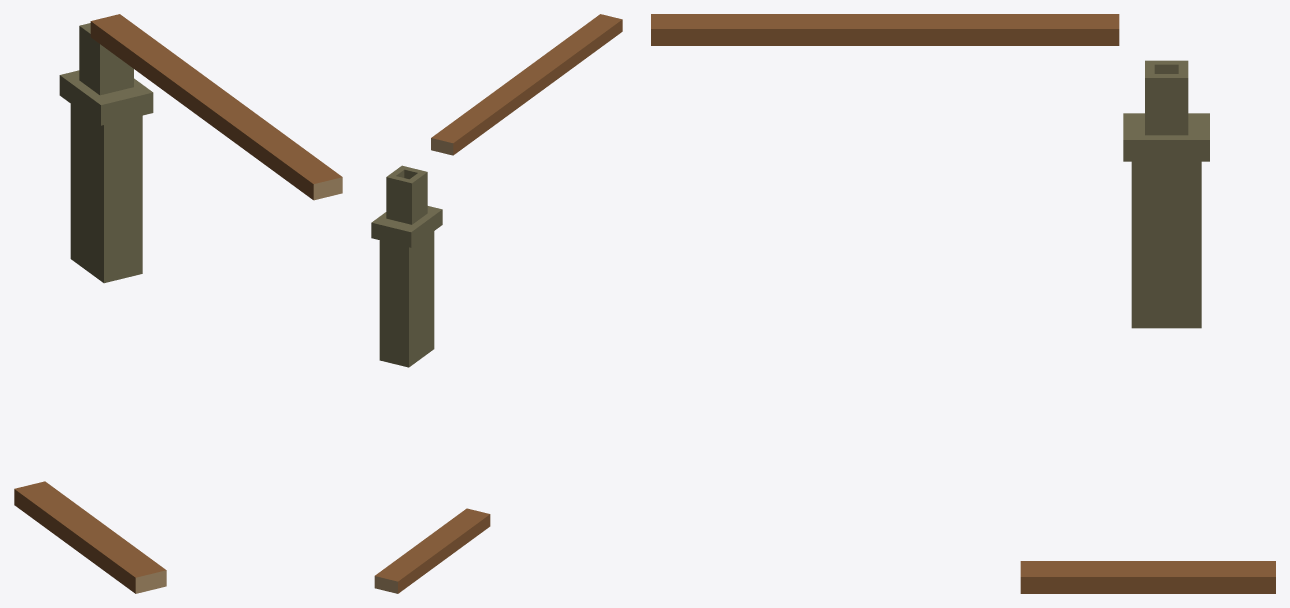
3 views of the same model, side by side, from view 1: azimuth 30°, elevation 25°; view 2: azimuth 150°, elevation 25°; view 3: azimuth 270°, elevation 25° (orthographic). The views are drawn at different scales.
Visible parts, largest first — view 1: Box15371_rock2_0, Box15735_brown_0, Box15357_brown_0, Box15357_brown2_0, Box15735_brown2_0; view 2: Box15371_rock2_0, Box15735_brown_0, Box15357_brown_0; view 3: Box15371_rock2_0, Box15735_brown_0, Box15357_brown_0.
Part boxes in pixels (x1,y1,x2,y2): Box15371_rock2_0: (59, 23, 153, 283); Box15735_brown_0: (90, 14, 342, 199); Box15357_brown_0: (14, 481, 166, 593); Box15357_brown2_0: (135, 570, 166, 593); Box15735_brown2_0: (313, 177, 342, 200); Box15371_rock2_0: (371, 165, 442, 367); Box15735_brown_0: (431, 14, 622, 155); Box15357_brown_0: (375, 508, 490, 593); Box15371_rock2_0: (1123, 60, 1209, 328); Box15735_brown_0: (651, 14, 1119, 45); Box15357_brown_0: (1020, 561, 1275, 593).
Size of the model in its own units: 117 by 904 by 906.
